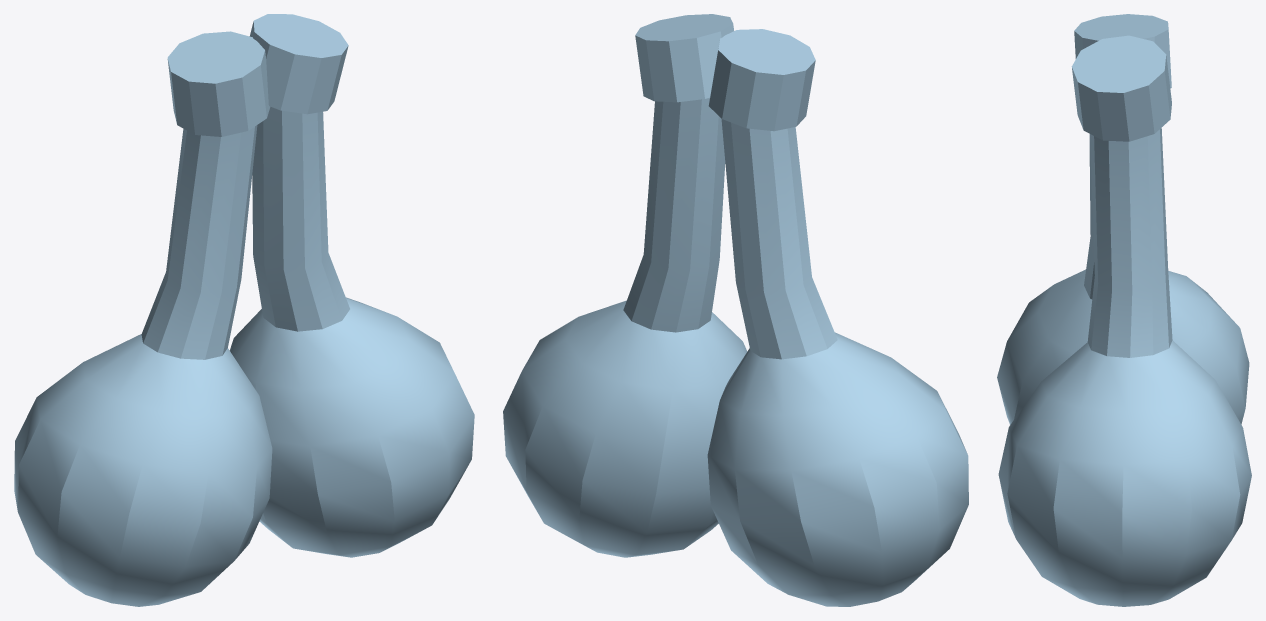
Rendered from 004_Shadow_Potion_02.fbx.
3 renders of one model, left to right at view 1: azimuth 30°, elevation 25°; view 2: azimuth 150°, elevation 25°; view 3: azimuth 270°, elevation 25°, orthographic. The views are drawn at different scales.
Parts seen in each view (by area): view 1: Sphere.023, Sphere.014; view 2: Sphere.023, Sphere.014; view 3: Sphere.014, Sphere.023.
Boxes of the visible parts, x1,y1,x2,y2 form: Sphere.023: [14, 31, 272, 606]; Sphere.014: [229, 14, 474, 557]; Sphere.023: [707, 29, 968, 606]; Sphere.014: [503, 14, 747, 557]; Sphere.014: [998, 35, 1251, 606]; Sphere.023: [997, 14, 1249, 424].
Size of the model in its own units: 87.97 by 105 by 46.83.
